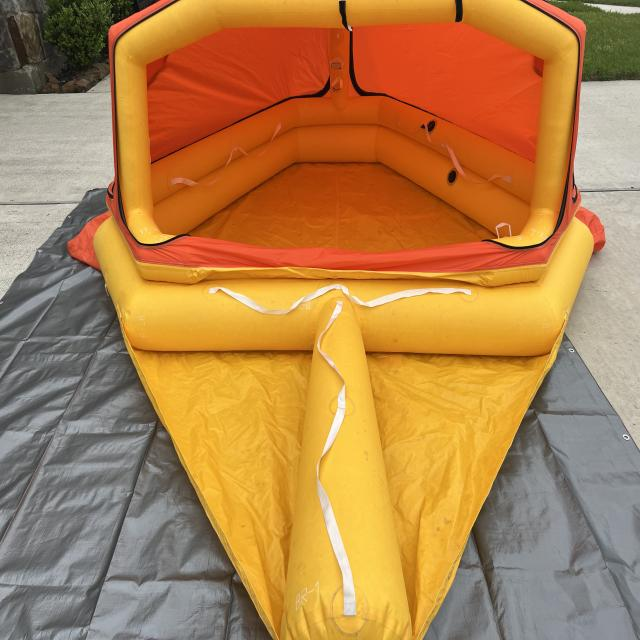Multi-person_life_raft: (65, 1, 605, 638)
